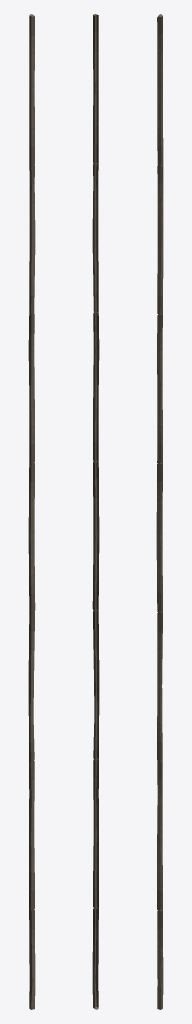
Rendered from border_80m_edge.glb.
3 renders of one model, left to right at view 1: azimuth 30°, elevation 25°; view 2: azimuth 210°, elevation 25°; view 3: azimuth 330°, elevation 25°, orthographic.
Visible parts, largest first — view 1: set_0_group_0; view 2: set_0_group_0; view 3: set_0_group_0.
Boxes of the visible parts, x1,y1,x2,y2 form: set_0_group_0: [28, 14, 35, 1009]; set_0_group_0: [92, 14, 99, 1009]; set_0_group_0: [156, 14, 163, 1009].
Size of the model in its own units: 0.3968 by 80.2 by 0.3479.
Materials: 1 (1 with a texture image).
